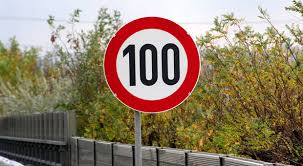Speed_limit_100km: (103, 17, 202, 114)
